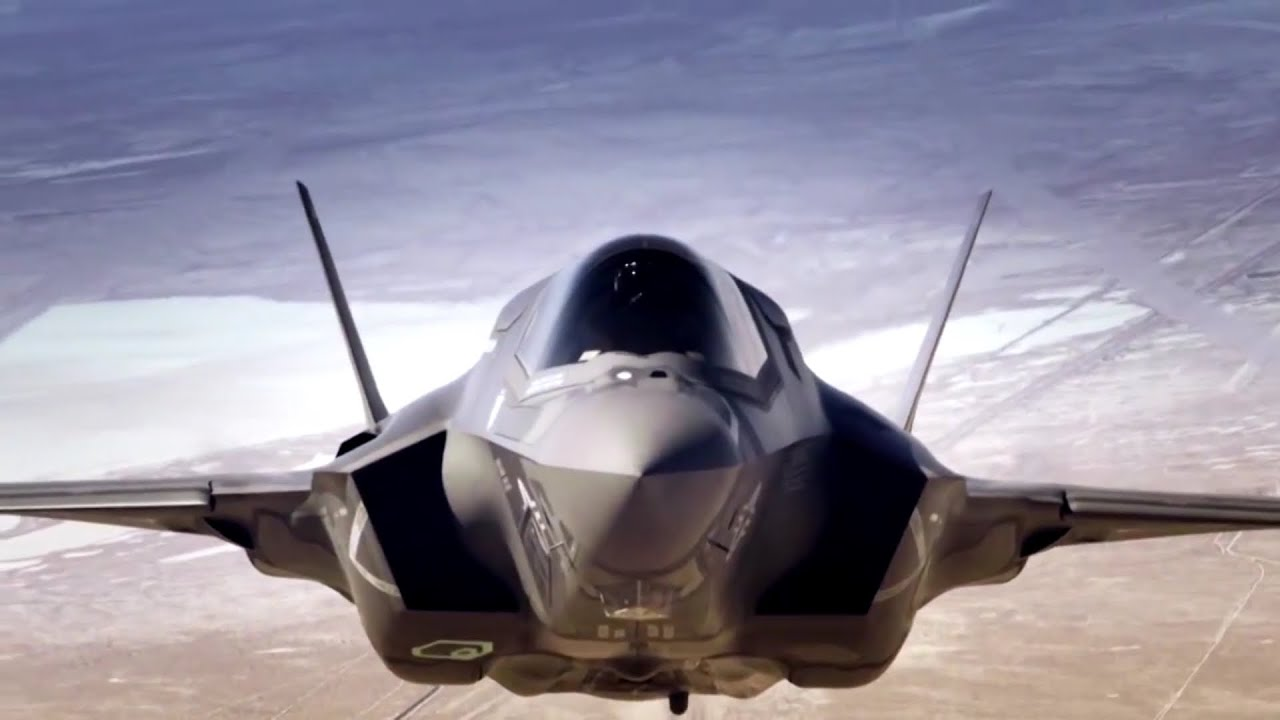F-35 Lightning: (138, 128, 1116, 717)
